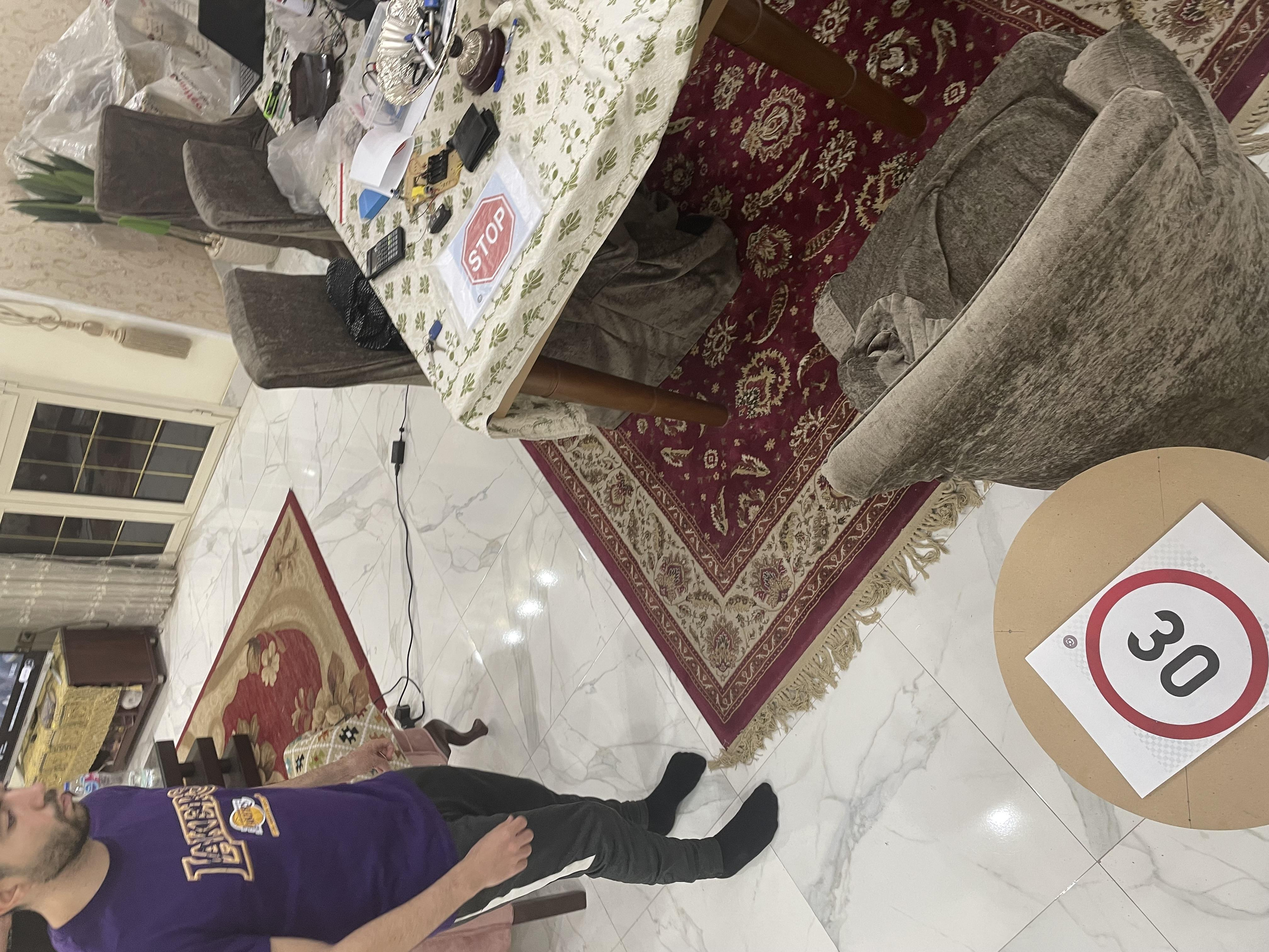30-speed: (277, 808, 530, 948)
